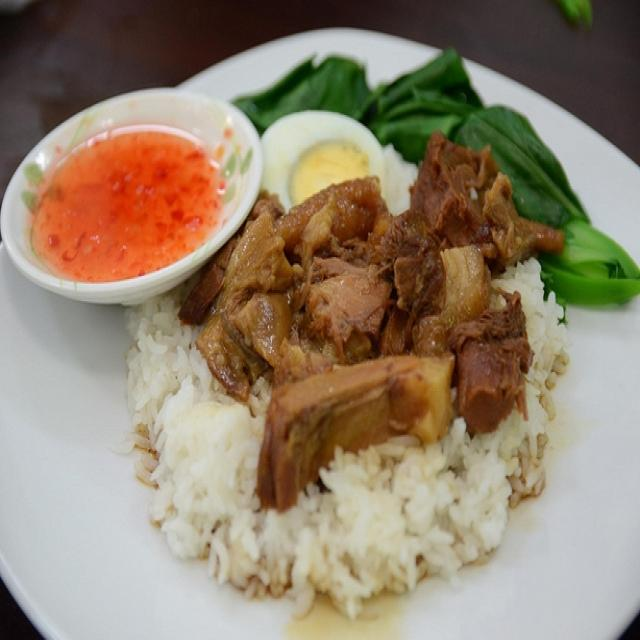猪肉菜式: (8, 44, 628, 613)
